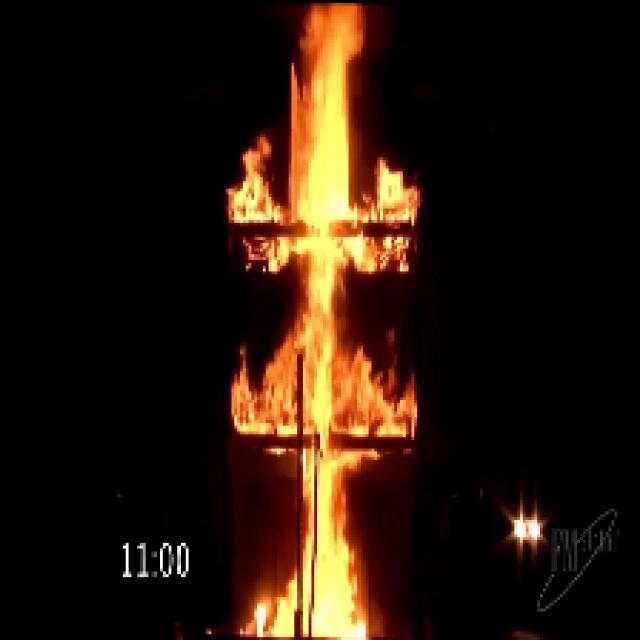fire: (253, 8, 381, 632)
